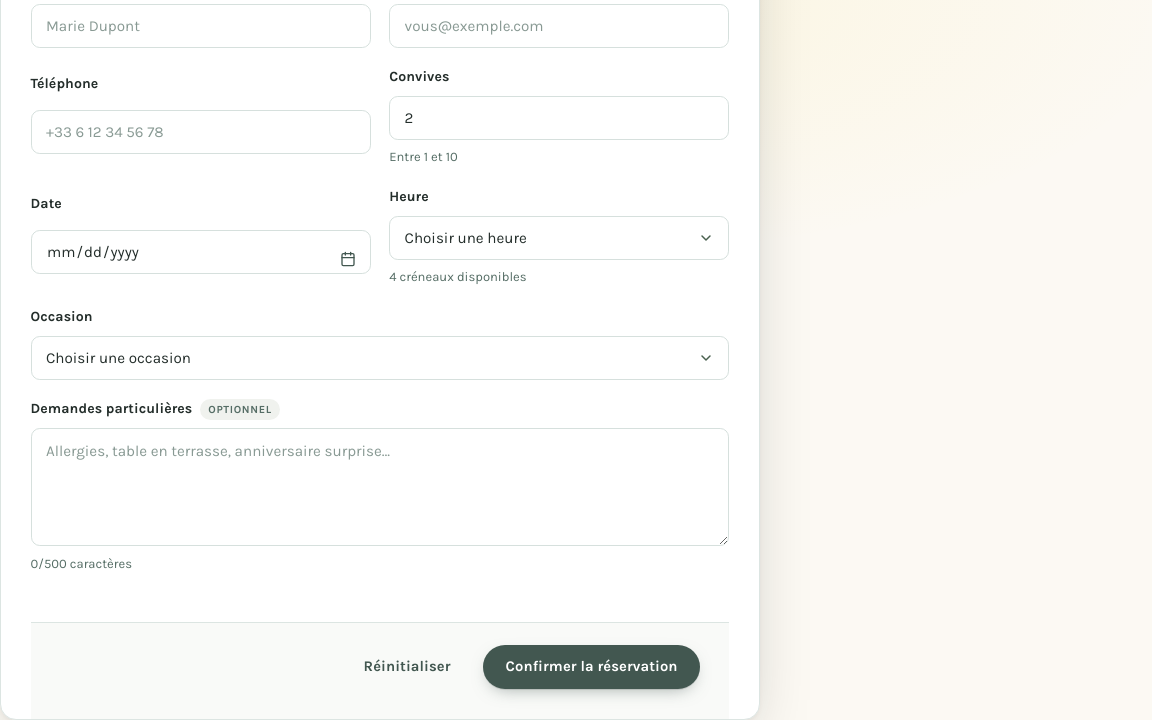
Scenario: BookingForm — composant enfant › affiche des erreurs de validation côté client quand on soumet un formulaire vide
The image size is (1152, 720).
(page scrolled)
Click the button "Confirmer la réservation".
click(591, 667)  # box [483,645,700,689]
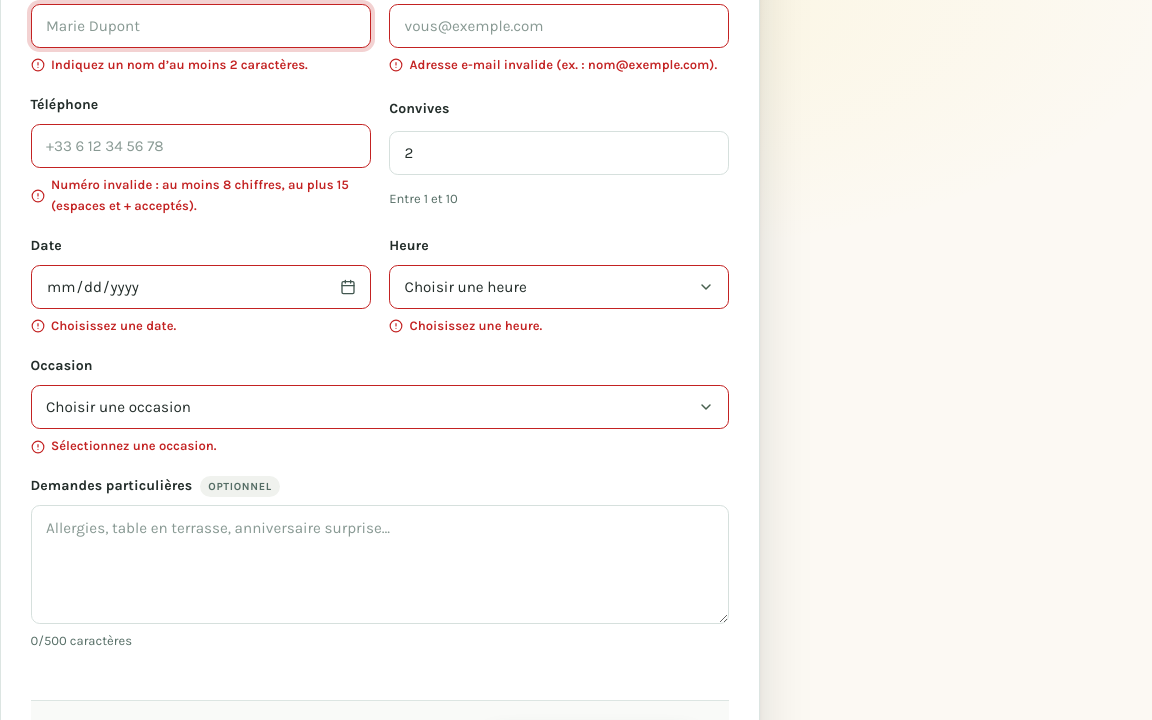
Expected: the text "Indiquez un nom d’au moins 2 caractères." is shown, [51,55,308,76]
Expected: the text "Adresse e-mail invalide (ex. : nom@exemple.com)." is shown, [410,55,717,76]
